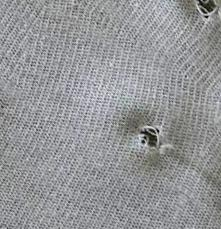hole: (134, 122, 166, 153), (189, 1, 219, 26)
